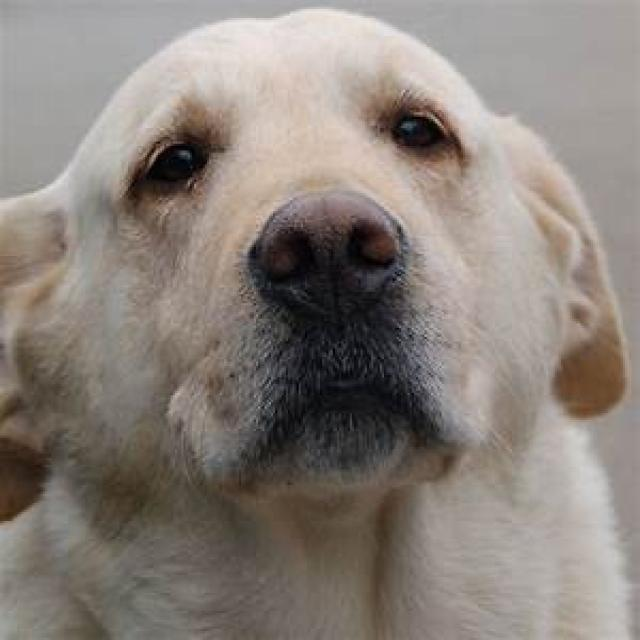dog: (0, 9, 638, 640)
